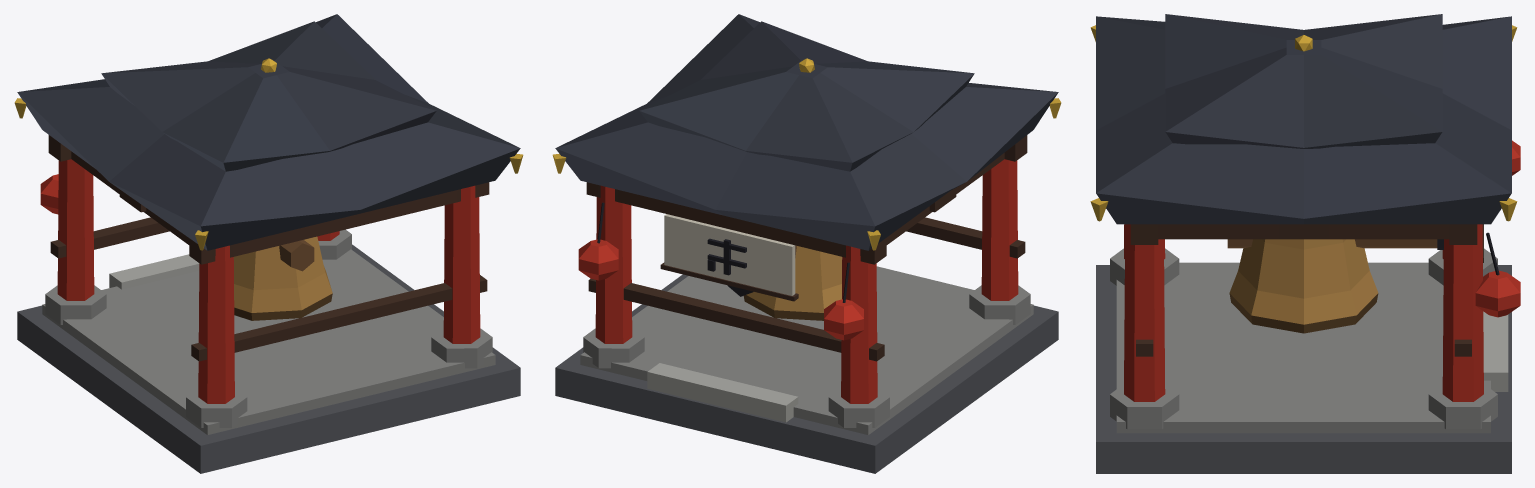
File: Decor_SamuraiShrine_BellTower.fbx
3 renders of one model, left to right at view 1: azimuth 30°, elevation 25°; view 2: azimuth 150°, elevation 25°; view 3: azimuth 270°, elevation 25°, orthographic. The views are drawn at different scales.
Parts seen in each view (by area): view 1: BellTower_Body; view 2: BellTower_Body; view 3: BellTower_Body.
Part boxes in pixels (x1,y1,x2,y2): BellTower_Body: [14, 14, 523, 473]; BellTower_Body: [552, 14, 1061, 473]; BellTower_Body: [1090, 14, 1520, 473].
Size of the model in its own units: 12 by 10.8 by 12.
